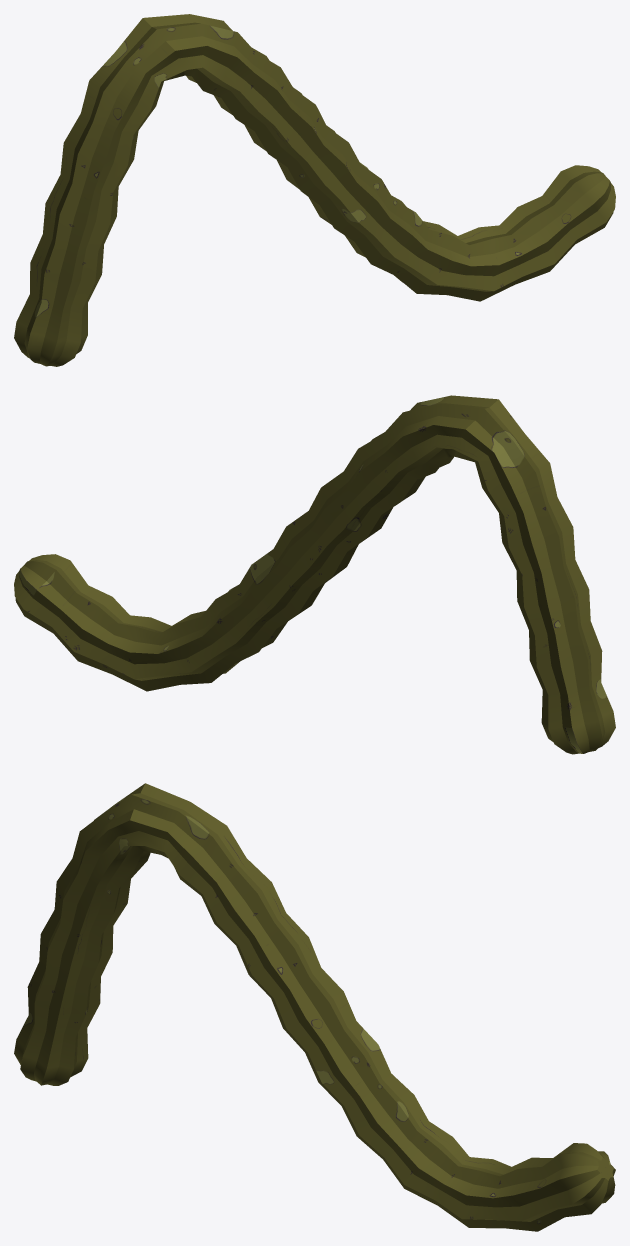
The model's file is BigCactus_2.fbx.
The picture shows the model from 3 angles, top to bottom: view 1: azimuth 30°, elevation 25°; view 2: azimuth 150°, elevation 25°; view 3: azimuth 330°, elevation 25°; orthographic projection.
Parts seen in each view (by area): view 1: Cactus; view 2: Cactus; view 3: Cactus.
Part boxes in pixels (bbox=[...]): Cactus: bbox=[14, 14, 615, 366]; Cactus: bbox=[14, 395, 615, 754]; Cactus: bbox=[14, 783, 615, 1231].
Size of the model in its own units: 2052 by 247 by 1193.
